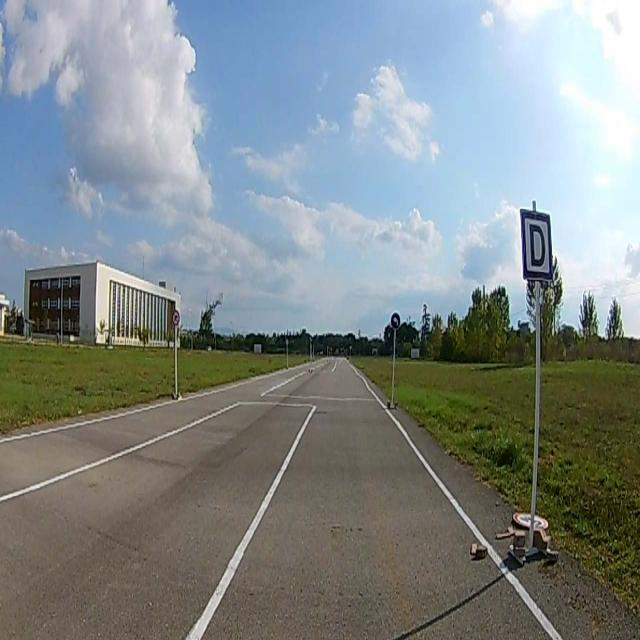durak: (521, 207, 553, 281)
sagadonulmez: (171, 310, 179, 324)
sol: (391, 314, 400, 330)
